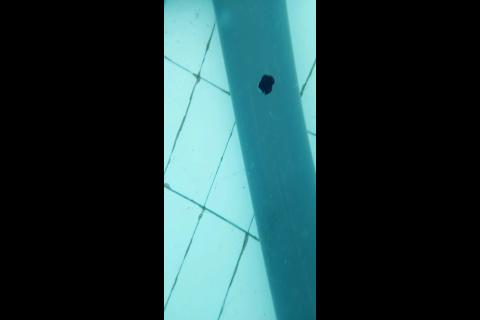kebocoran: (257, 73, 275, 96)
